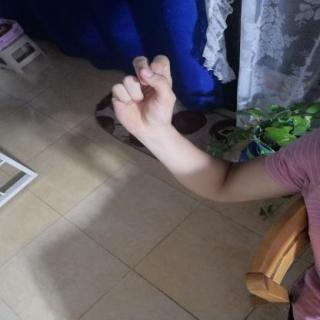QAAF: (99, 49, 191, 141)
